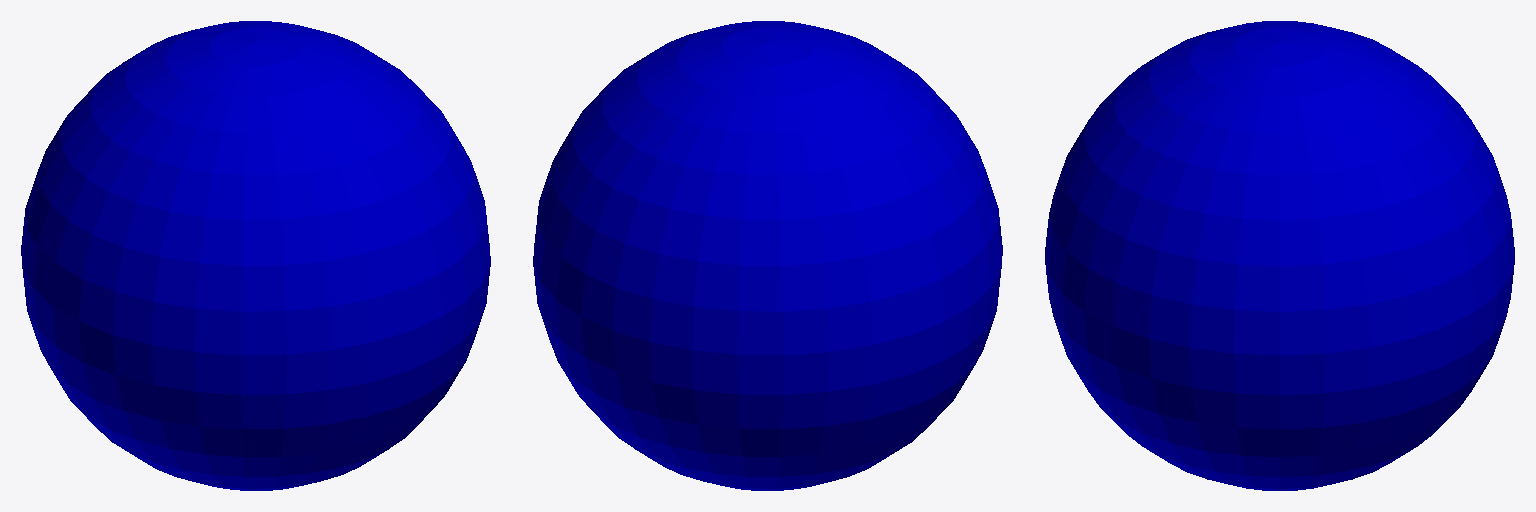
Rendered from earth.obj.
The picture shows the model from 3 angles: view 1: azimuth 30°, elevation 25°; view 2: azimuth 150°, elevation 25°; view 3: azimuth 270°, elevation 25°; orthographic projection.
Visible parts, largest first — view 1: Sphere; view 2: Sphere; view 3: Sphere.
Boxes of the visible parts, x1,y1,x2,y2 form: Sphere: [21, 21, 490, 490]; Sphere: [533, 21, 1002, 490]; Sphere: [1045, 21, 1514, 490].
Size of the model in its own units: 2 by 2 by 2.